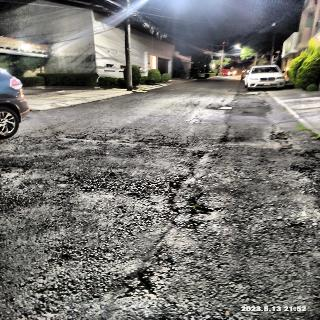crack: (16, 243, 124, 319), (271, 129, 320, 192)
pothole: (159, 146, 215, 248), (130, 258, 177, 308)
